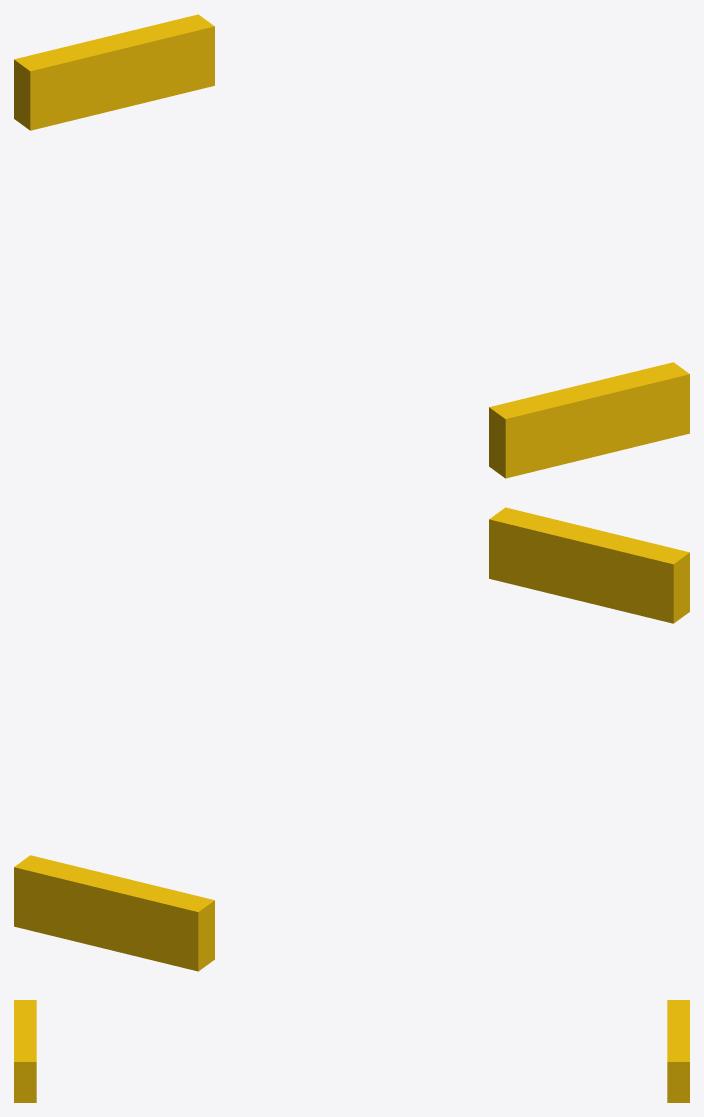
File: sports_car_front_skirt.glb
3 renders of one model, top to bottom at view 1: azimuth 30°, elevation 25°; view 2: azimuth 150°, elevation 25°; view 3: azimuth 270°, elevation 25°, orthographic. The views are drawn at different scales.
Parts seen in each view (by area): view 1: body:compound; view 2: body:compound; view 3: body:compound.
Part boxes in pixels (box(x1,y1,x2,y2)): body:compound: box(14, 14, 689, 478); body:compound: box(14, 507, 689, 971); body:compound: box(14, 1000, 689, 1102).
Bounding box in the file's own units: 0.4062 × 0.125 × 1.88.
